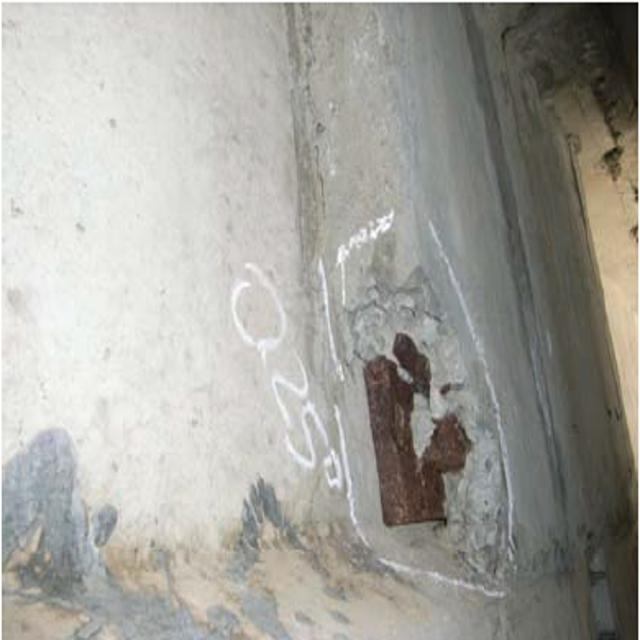spalling: (336, 267, 518, 577)
